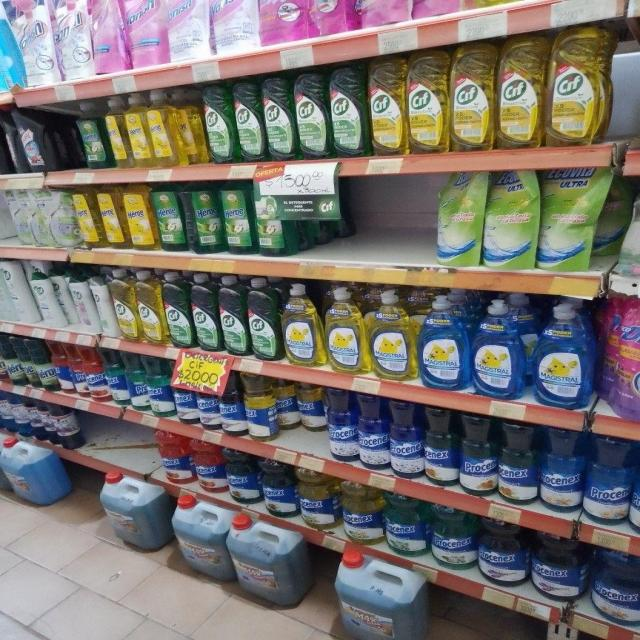cif_conc_bot_amarilla: (548, 31, 607, 146), (497, 42, 544, 150), (450, 47, 494, 152), (408, 53, 448, 154), (369, 59, 406, 156), (137, 270, 163, 344), (113, 268, 136, 340)
cif_conc_botella_verde: (330, 66, 367, 158), (296, 72, 328, 160), (248, 277, 280, 361), (264, 76, 294, 162), (235, 80, 263, 163), (204, 84, 233, 164), (220, 275, 247, 356), (192, 272, 218, 351), (165, 270, 191, 348)
magistral_con_amarillo: (368, 289, 416, 382), (326, 286, 366, 374), (283, 282, 323, 367)
magistral_con_azul: (531, 302, 594, 409), (472, 298, 524, 399), (418, 294, 469, 391)
